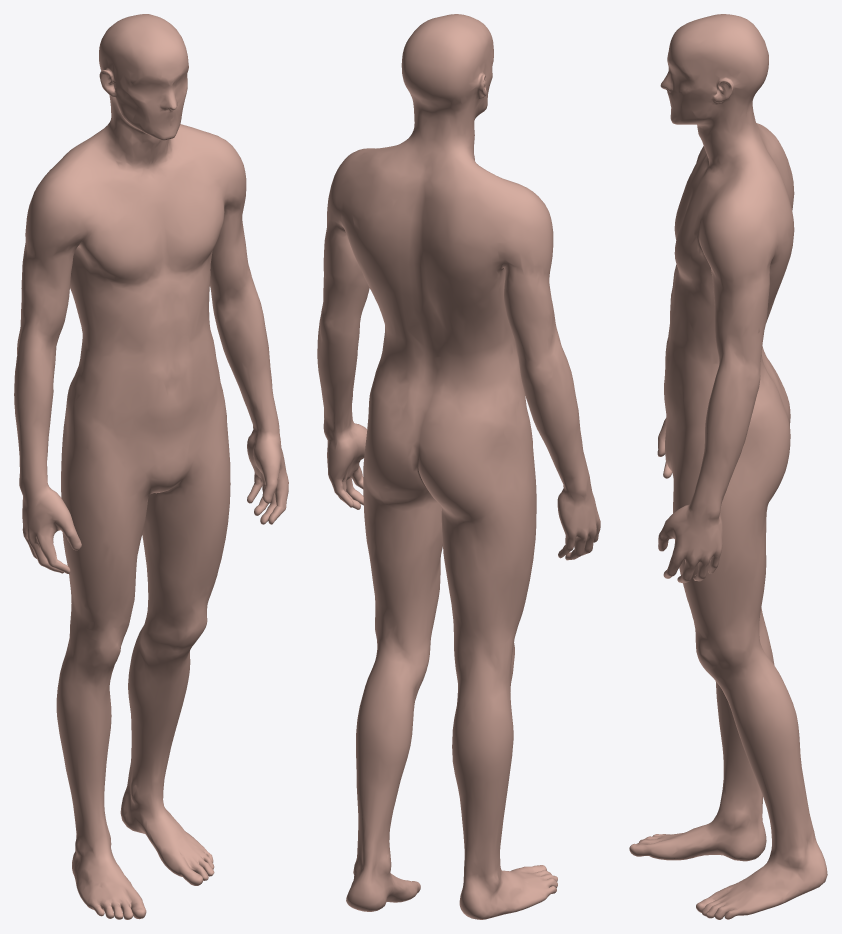
Rendered from maniquin.glb.
3 renders of one model, left to right at view 1: azimuth 30°, elevation 25°; view 2: azimuth 150°, elevation 25°; view 3: azimuth 270°, elevation 25°, orthographic. The views are drawn at different scales.
Visible parts, largest first — view 1: body; view 2: body; view 3: body.
Boxes of the visible parts, x1,y1,x2,y2 form: body: (14,14,288,919); body: (317,14,600,919); body: (629,14,827,919).
Size of the model in its own units: 58.67 by 190 by 39.16.
